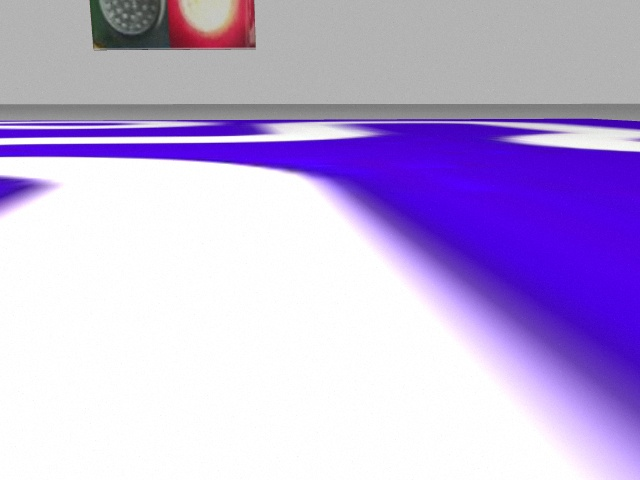red: (167, 1, 255, 46)
